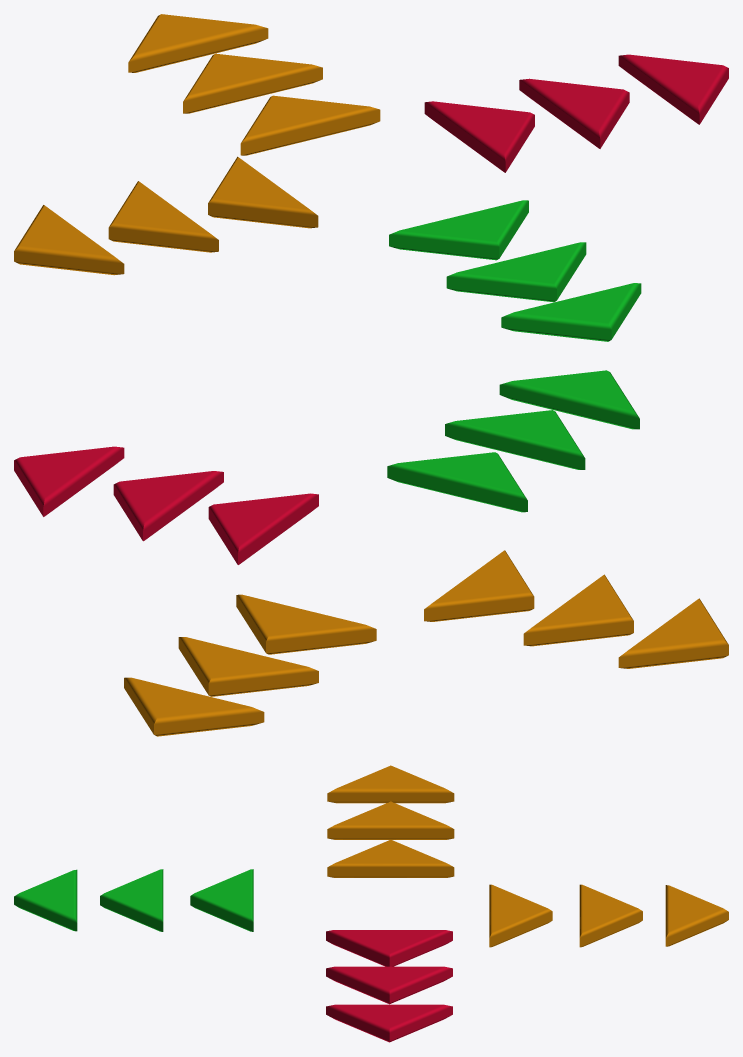
Rendered from arrows.gltf.
3 renders of one model, top to bottom at view 1: azimuth 30°, elevation 25°; view 2: azimuth 150°, elevation 25°; view 3: azimuth 270°, elevation 25°, orthographic. The views are drawn at different scales.
Visible parts, largest first — view 1: Triangle 7 (×3), Triangle 13 (×3), Triangle 10 (×3), Triangle 4 (×2), Triangle 5; view 2: Triangle 13 (×3), Triangle 7 (×3), Triangle 10 (×3), Triangle 4 (×2), Triangle 5; view 3: Triangle 10 (×3), Triangle 13 (×3), Triangle 7 (×3), Triangle 4 (×2), Triangle 5.
Part boxes in pixels (x1,y1,x2,y2): Triangle 7 (×3): [389, 200, 641, 341]; Triangle 13 (×3): [128, 14, 380, 155]; Triangle 10 (×3): [14, 156, 318, 275]; Triangle 4 (×2): [424, 78, 629, 172]; Triangle 5: [618, 54, 728, 124]; Triangle 13 (×3): [124, 594, 376, 736]; Triangle 7 (×3): [387, 370, 639, 512]; Triangle 10 (×3): [424, 550, 728, 668]; Triangle 4 (×2): [113, 471, 318, 564]; Triangle 5: [14, 446, 124, 516]; Triangle 10 (×3): [327, 765, 454, 877]; Triangle 13 (×3): [489, 884, 728, 947]; Triangle 7 (×3): [14, 869, 253, 931]; Triangle 4 (×2): [326, 930, 452, 1004]; Triangle 5: [326, 1004, 452, 1042].
Bounding box in the file's own units: 10.23 × 0.52 × 11.28.
